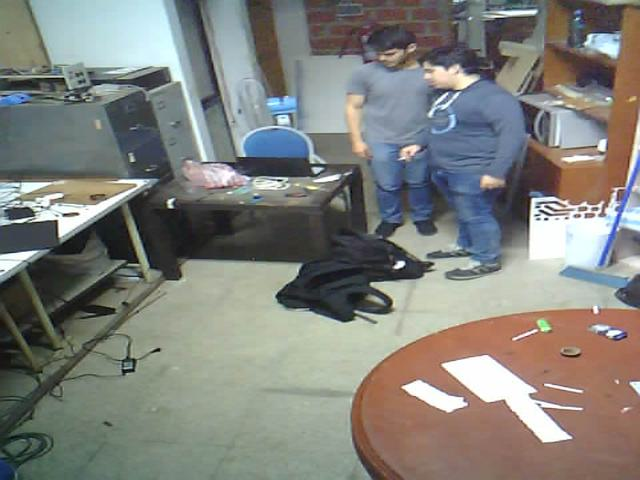person: (411, 31, 526, 292), (341, 10, 448, 246)
